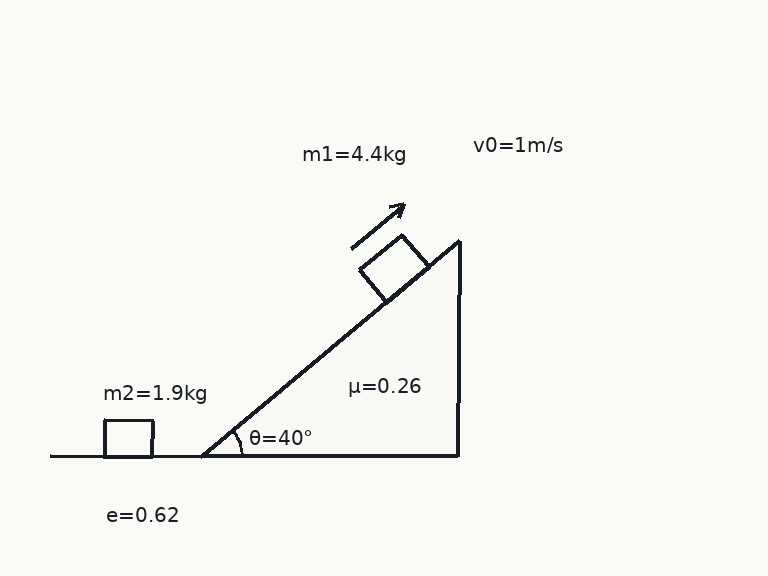block: (358, 233, 430, 304), (102, 418, 154, 458)
ramp: (200, 239, 460, 458)
